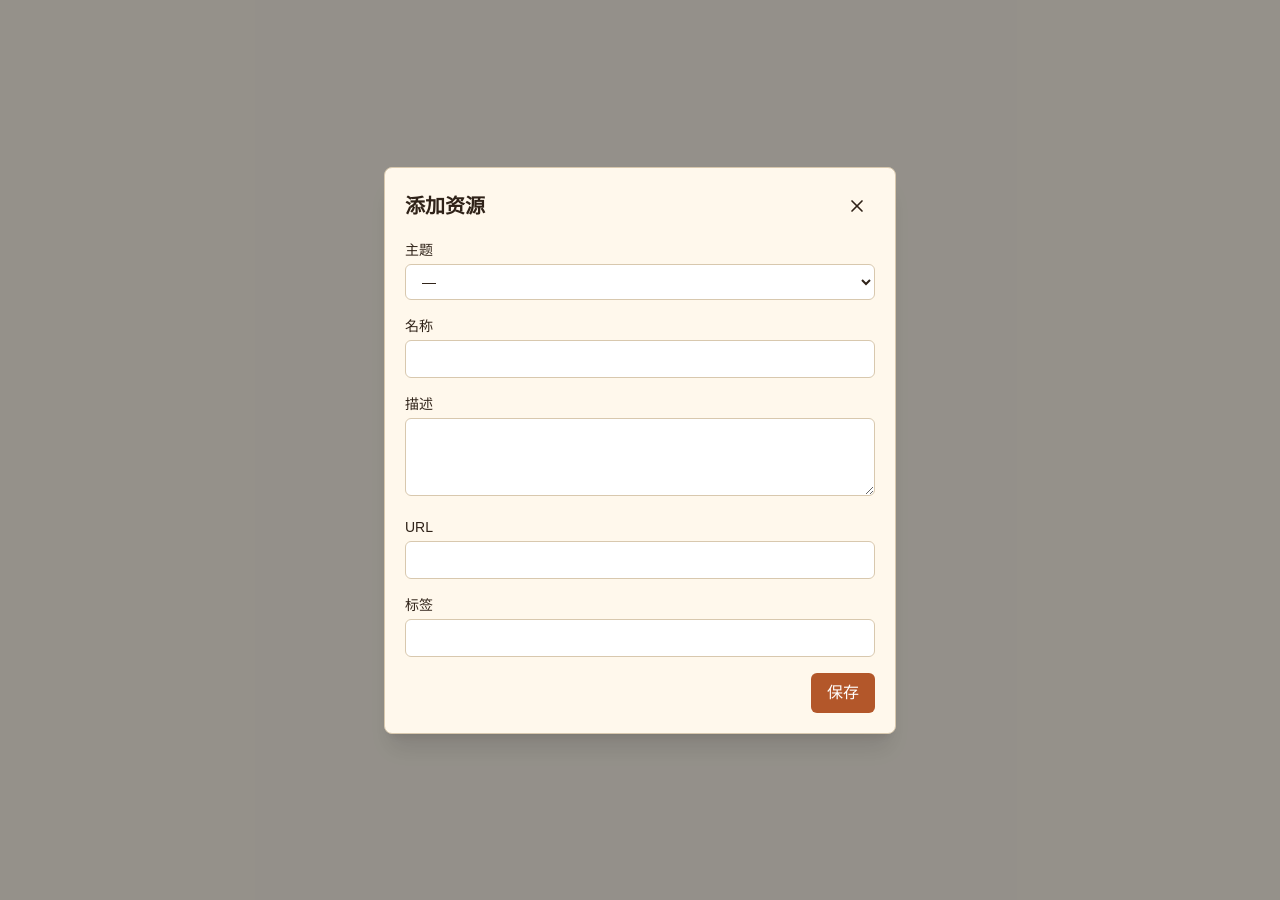
it: PrivateResourceDialog › shows a blocking limit result
Select "阅读" in the dropdown labelled "主题" at (640, 282), box top-left (405, 264), bottom-right (875, 300)
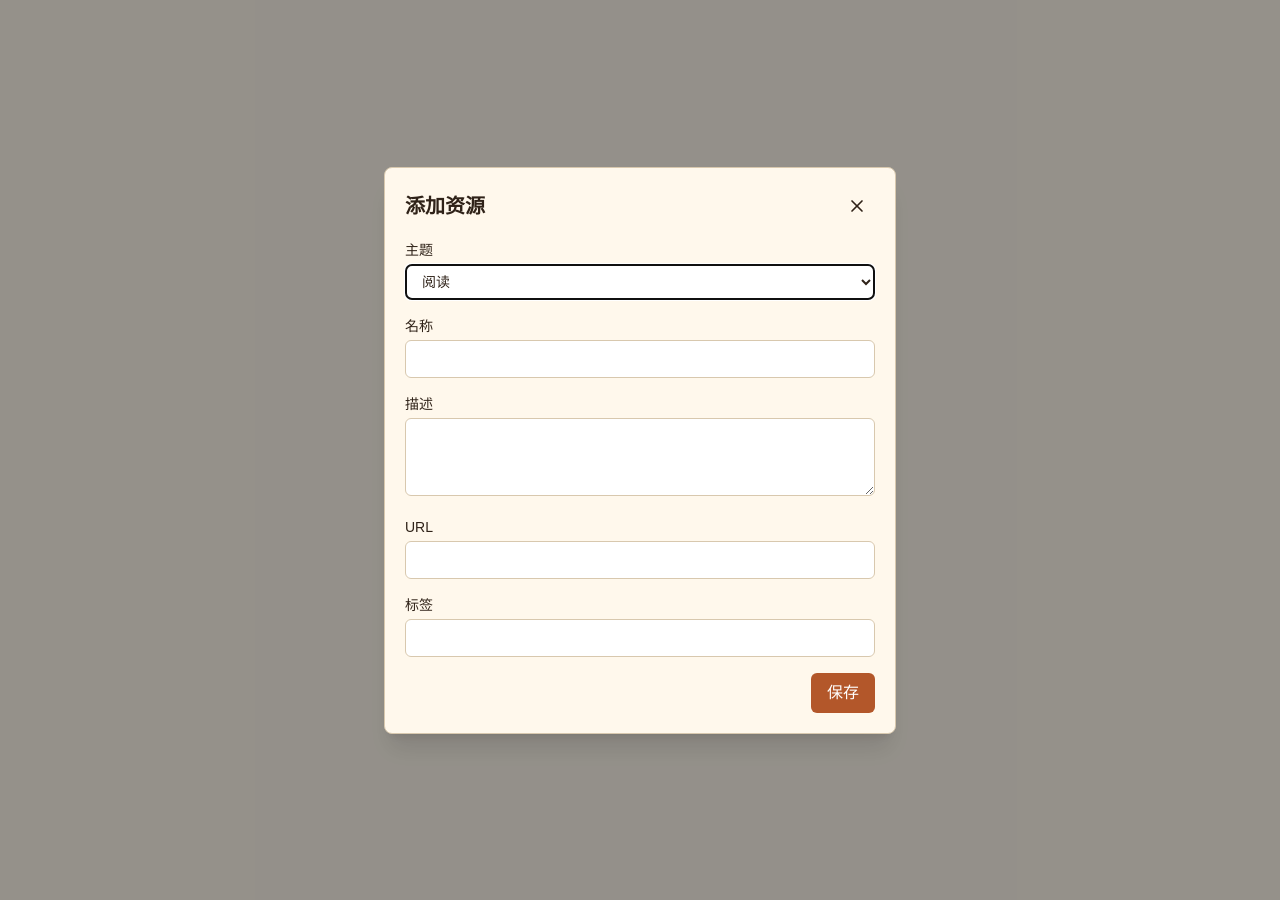
Type "  My article  " into the field labelled "名称" at (640, 358), box top-left (405, 340), bottom-right (875, 378)
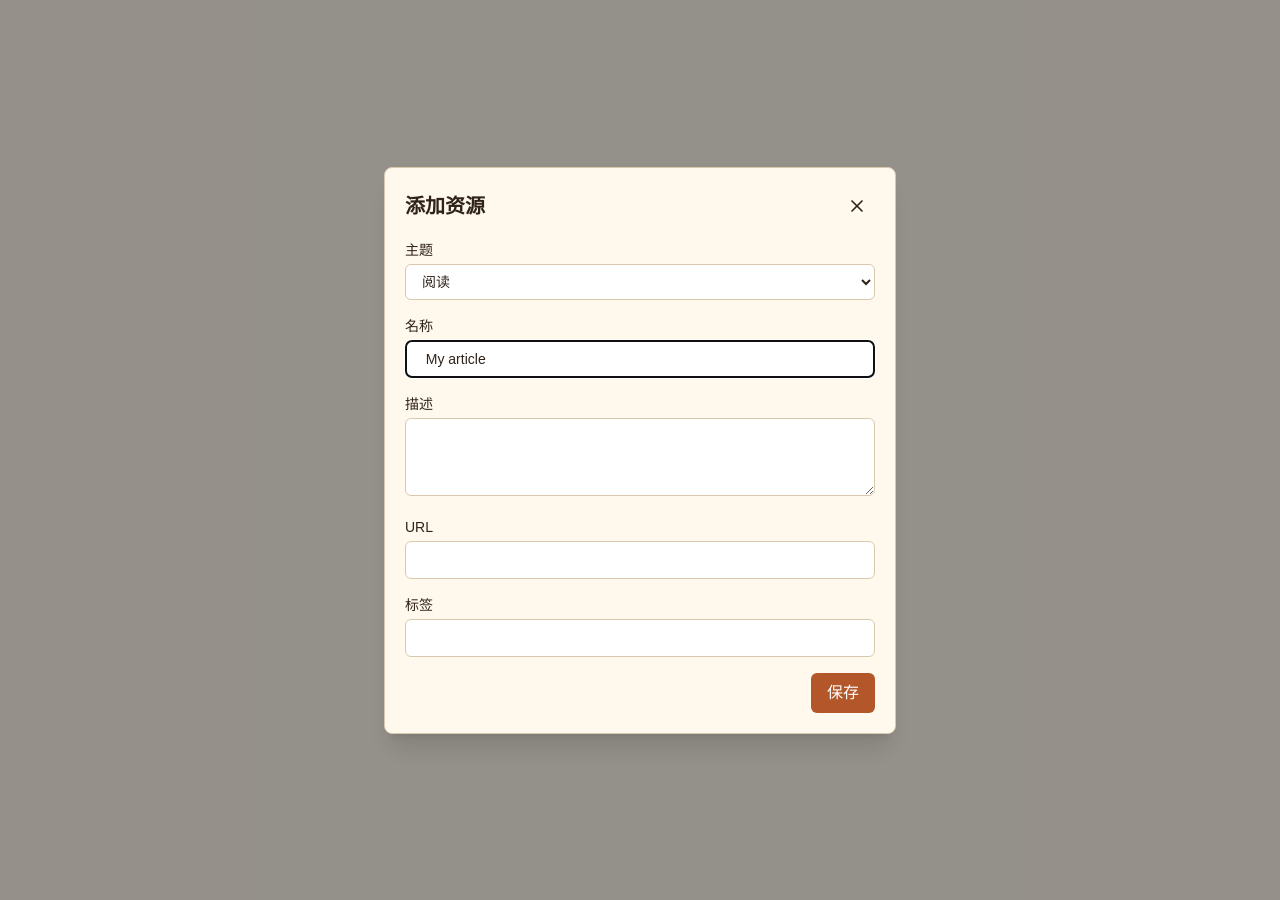
Type "  Useful reading  " into the text box labelled "描述" at (640, 456), box top-left (405, 418), bottom-right (875, 496)
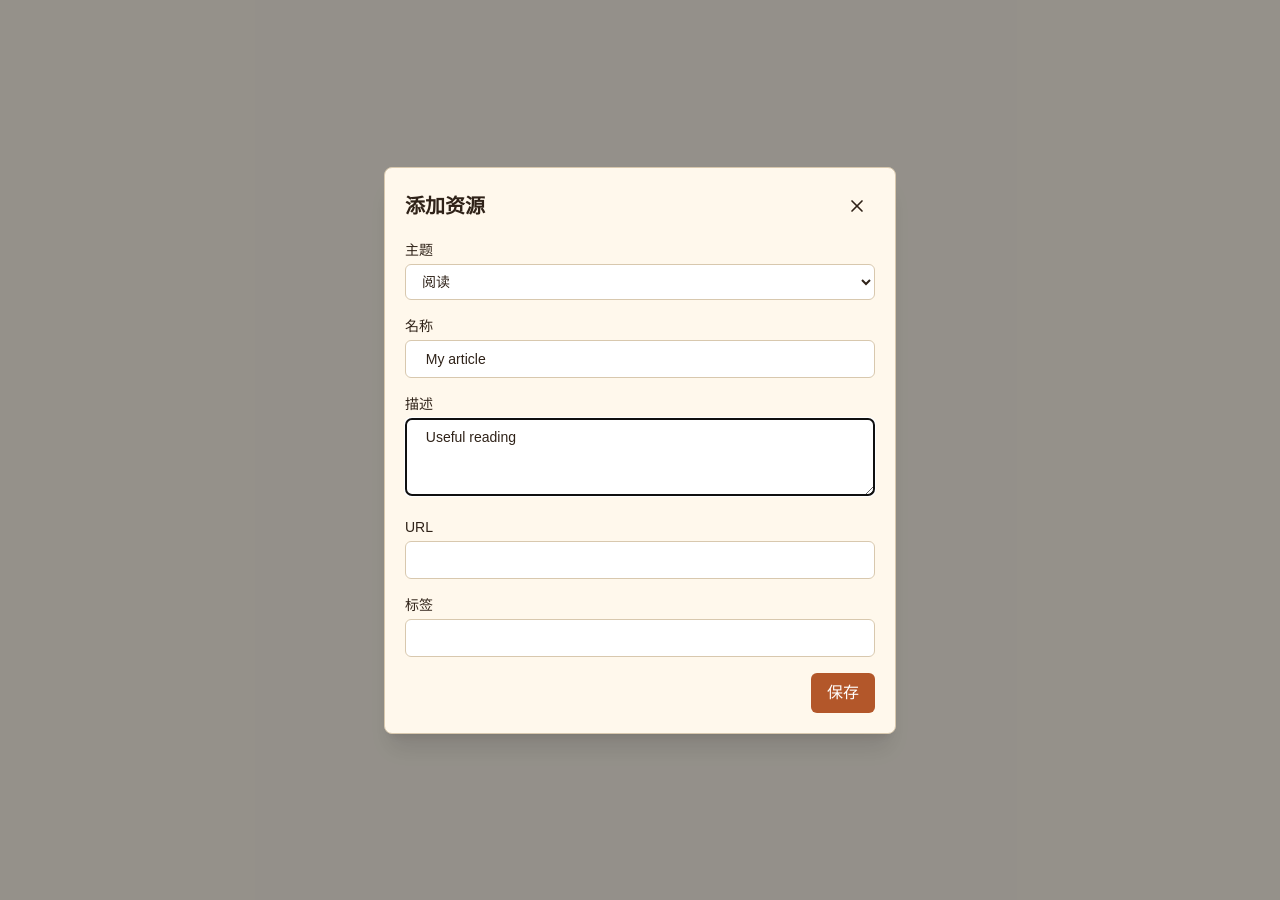
Type "https://example.com/new" into the field labelled "URL" at (640, 560), box top-left (405, 540), bottom-right (875, 578)
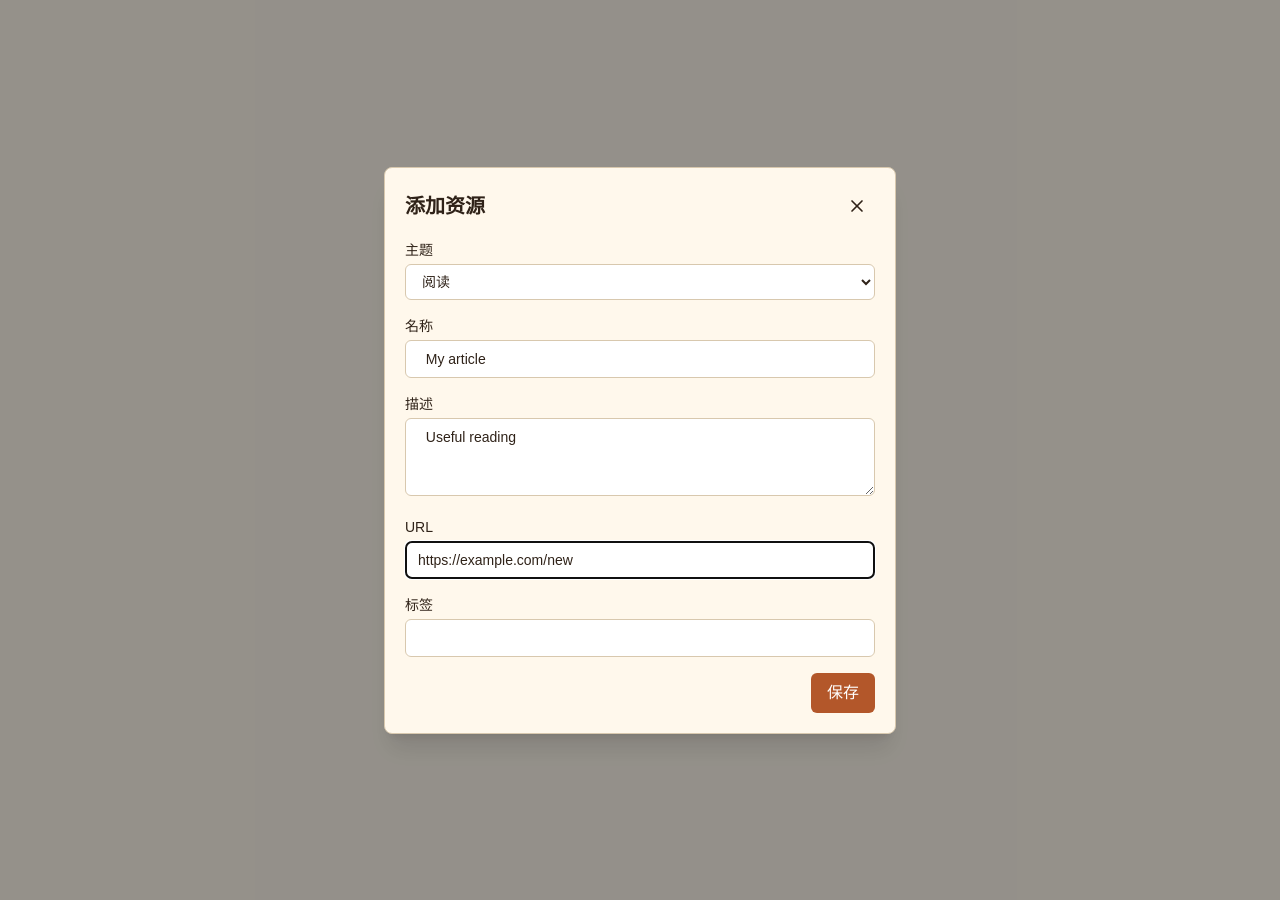
Type " news, beginner,news " into the field labelled "标签" at (640, 638), box top-left (405, 618), bottom-right (875, 656)
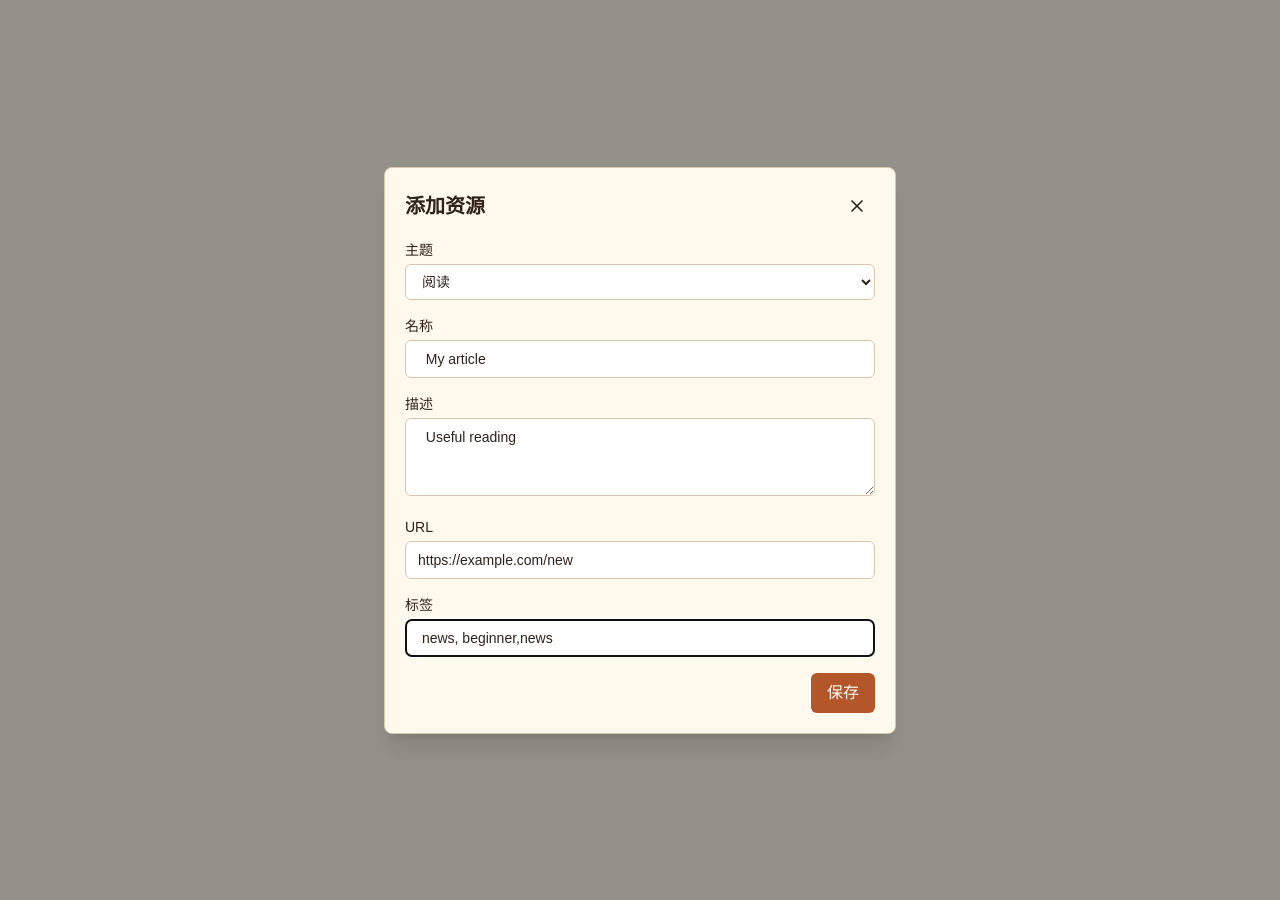
Click the button "保存" at (843, 692), box top-left (811, 672), bottom-right (875, 712)
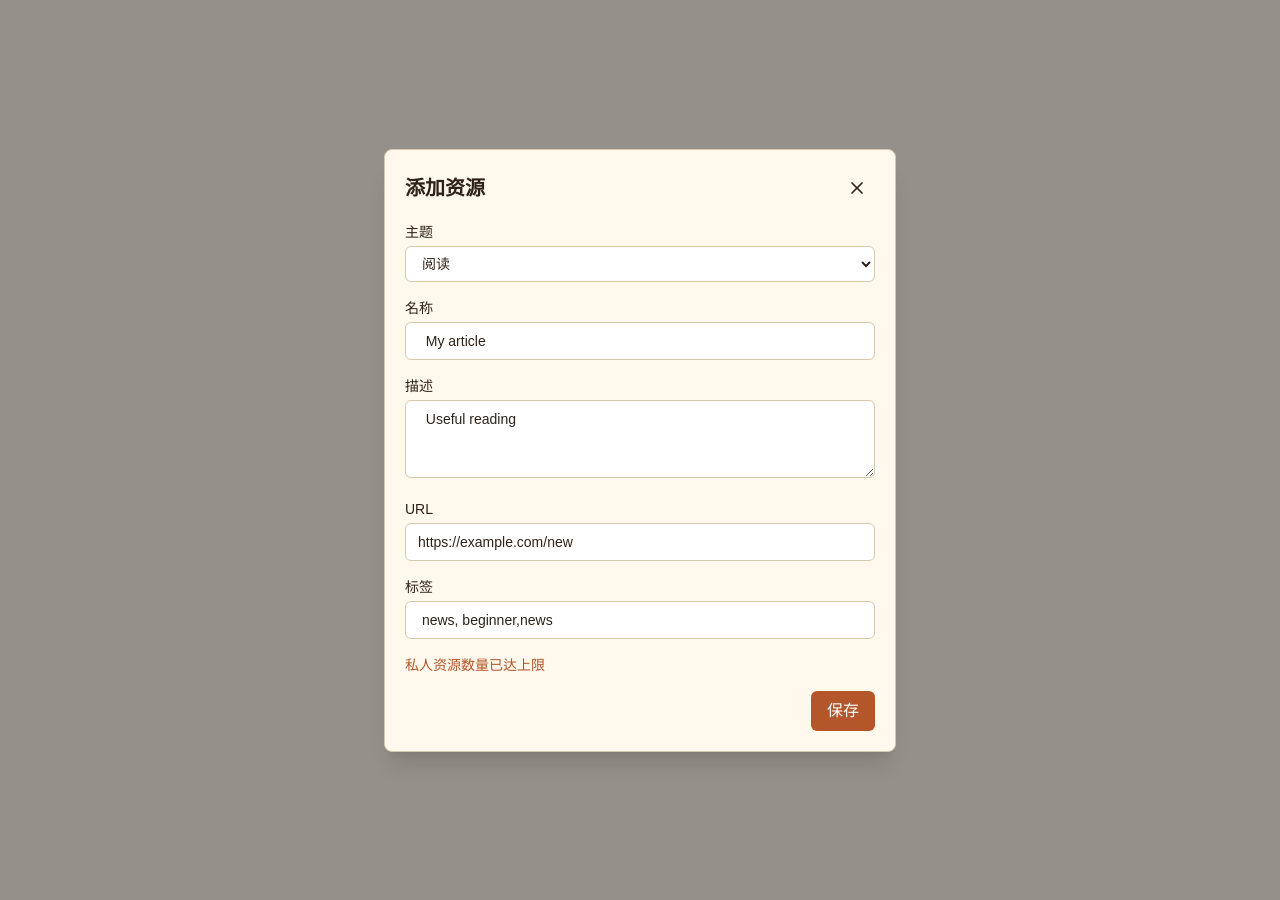
Result: the text "私人资源数量已达上限" is shown at top-left (405, 656), bottom-right (545, 672)
